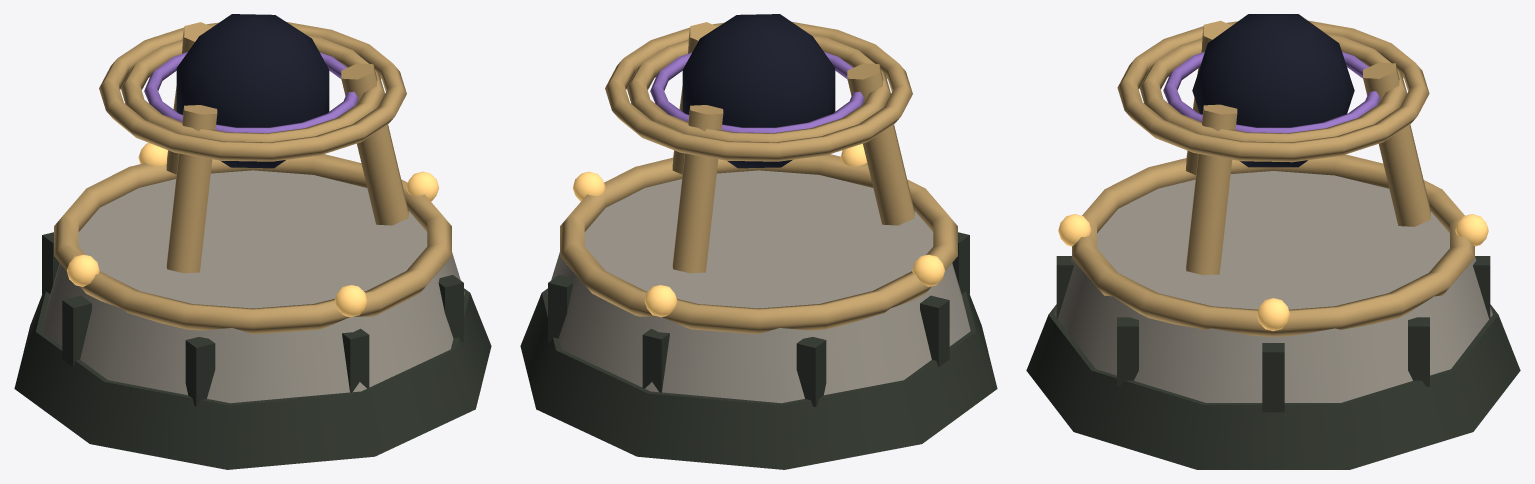
The model's file is tower_gravity_gravityCore.glb.
3 renders of one model, left to right at view 1: azimuth 30°, elevation 25°; view 2: azimuth 150°, elevation 25°; view 3: azimuth 270°, elevation 25°, orthographic.
Visible parts, largest first — view 1: stone_1, foot_0, rim_2, black_hole_15, orbit_21, orbit_20, claw_18, claw_17, accretion_19, mortar_6, mortar_7, mortar_5 (+7 smaller); view 2: stone_1, foot_0, rim_2, black_hole_15, orbit_21, orbit_20, claw_16, claw_18, accretion_19, mortar_8, mortar_7, mortar_9 (+6 smaller); view 3: stone_1, foot_0, rim_2, black_hole_15, orbit_21, orbit_20, claw_17, claw_16, accretion_19, mortar_3, mortar_4, mortar_10 (+6 smaller).
Part boxes in pixels (x1,y1,x2,y2): stone_1: (41, 170, 464, 403); foot_0: (14, 288, 491, 469); rim_2: (54, 154, 451, 334); black_hole_15: (176, 14, 329, 168); orbit_21: (99, 22, 406, 161); orbit_20: (121, 35, 384, 142); claw_18: (166, 105, 217, 273); claw_17: (341, 63, 408, 225); accretion_19: (144, 52, 358, 133); mortar_6: (185, 337, 215, 407); mortar_7: (62, 295, 91, 367); mortar_5: (342, 328, 369, 392); stone_1: (547, 170, 970, 403); foot_0: (520, 288, 997, 469); rim_2: (560, 154, 957, 334); black_hole_15: (682, 14, 835, 168); orbit_21: (605, 22, 912, 161); orbit_20: (627, 35, 890, 142); claw_16: (672, 105, 723, 273); claw_18: (847, 63, 914, 225); accretion_19: (650, 52, 864, 133); mortar_8: (796, 337, 826, 407); mortar_7: (920, 295, 949, 367); mortar_9: (642, 328, 669, 392); stone_1: (1054, 171, 1492, 402); foot_0: (1026, 304, 1520, 469); rim_2: (1072, 154, 1474, 337); black_hole_15: (1192, 14, 1354, 167); orbit_21: (1117, 20, 1429, 162); orbit_20: (1139, 33, 1407, 142); claw_17: (1186, 104, 1237, 275); claw_16: (1363, 62, 1430, 226); accretion_19: (1163, 51, 1380, 133); mortar_3: (1262, 343, 1284, 412); mortar_4: (1117, 317, 1138, 386); mortar_10: (1408, 317, 1429, 386).
Size of the model in its own units: 0.5326 by 0.442 by 0.56.
